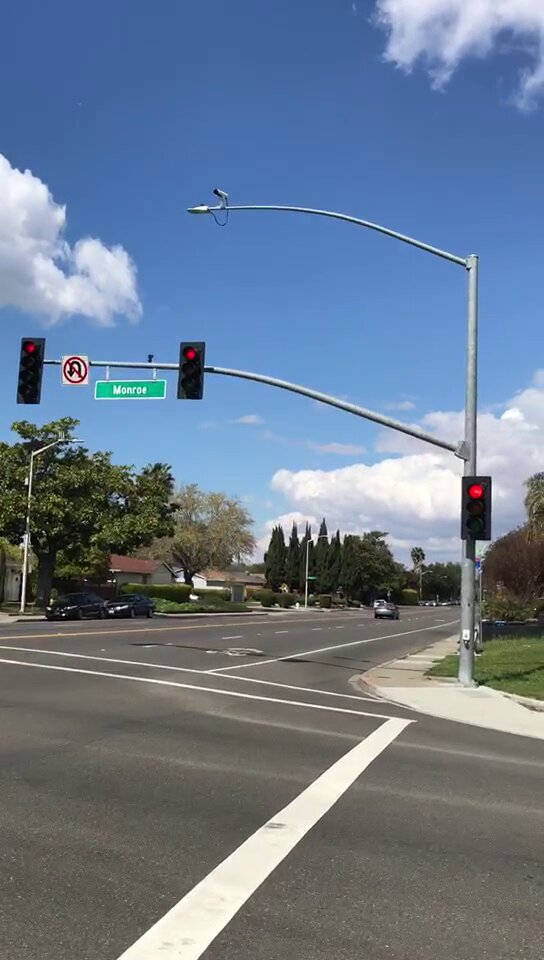red_light: (461, 476, 492, 540), (20, 337, 42, 402), (181, 341, 203, 401)
